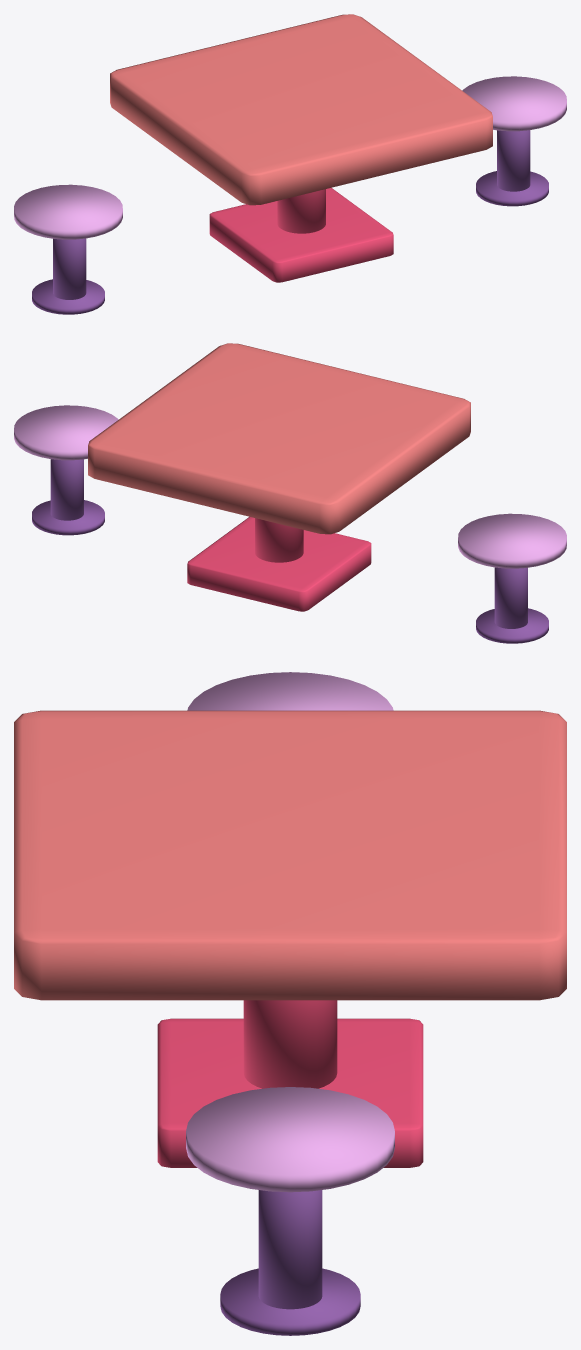
File: stolik.gltf
3 renders of one model, top to bottom at view 1: azimuth 30°, elevation 25°; view 2: azimuth 150°, elevation 25°; view 3: azimuth 270°, elevation 25°, orthographic. The views are drawn at different scales.
Parts seen in each view (by area): view 1: Cube.003, Cube.002, Circle, Circle.003, Cylinder.002, Cylinder.001, Cylinder, Circle.002, Circle.001; view 2: Cube.003, Cube.002, Circle, Circle.003, Cylinder.002, Cylinder.001, Cylinder, Circle.002, Circle.001; view 3: Cube.003, Cube.002, Circle.003, Cylinder, Cylinder.002, Circle, Circle.002.
Boxes of the visible parts, x1,y1,x2,y2 form: Cube.003: [110, 14, 492, 205]; Cube.002: [209, 187, 393, 282]; Circle: [14, 184, 122, 239]; Circle.003: [462, 76, 566, 131]; Cylinder.002: [497, 130, 530, 191]; Cylinder.001: [53, 238, 86, 299]; Cylinder: [277, 189, 325, 233]; Circle.002: [476, 171, 548, 206]; Circle.001: [32, 279, 104, 314]; Cube.003: [88, 343, 470, 534]; Cube.002: [187, 516, 371, 611]; Circle: [458, 513, 566, 568]; Circle.003: [14, 405, 118, 460]; Cylinder.002: [50, 459, 83, 520]; Cylinder.001: [494, 567, 527, 628]; Cylinder: [255, 518, 303, 562]; Circle.002: [32, 500, 104, 535]; Circle.001: [476, 608, 548, 643]; Cube.003: [14, 710, 566, 1000]; Cube.002: [157, 1018, 423, 1167]; Circle.003: [186, 1087, 394, 1192]; Cylinder: [243, 1000, 337, 1088]; Cylinder.002: [258, 1190, 322, 1309]; Circle: [187, 672, 393, 710]; Circle.002: [220, 1268, 360, 1335].
Size of the model in its own units: 5.37 by 1.44 by 2.49.
Materials: 2 (2 with a texture image).
